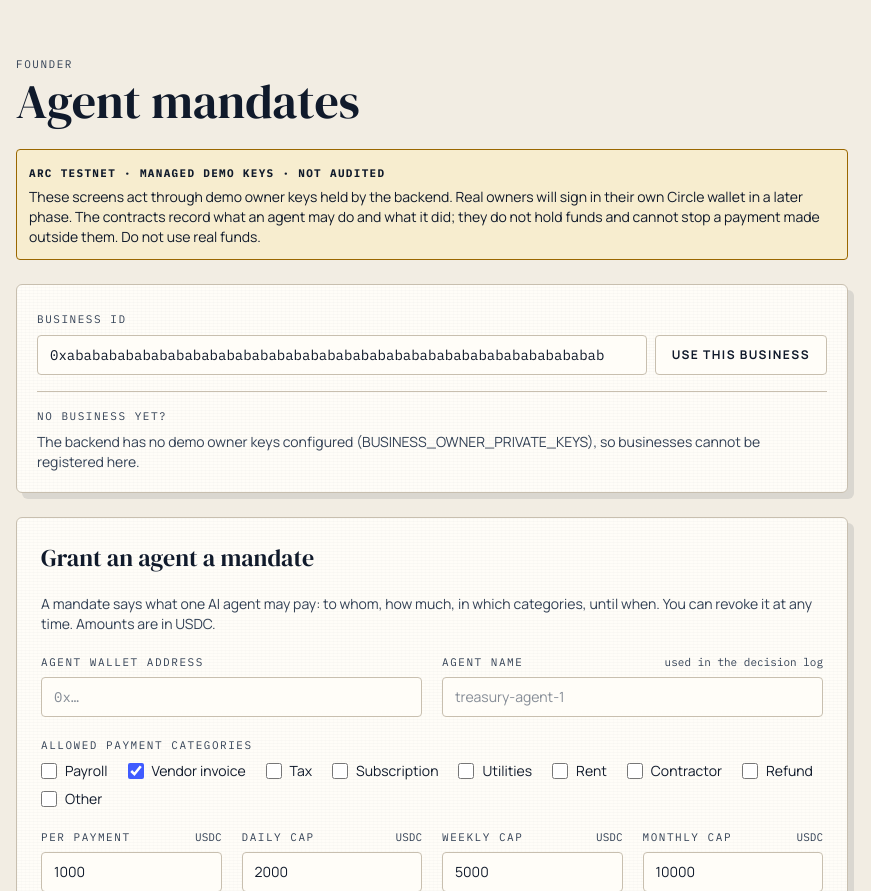
Test: Founder: mandates › surfaces a contract-level refusal in words
The image size is (871, 891).
Type "0x14dC79964da2C08b23698B3D3cc7Ca32193d9955" into the field labelled "Agent wallet address" at (232, 696), box [41,676,422,716]
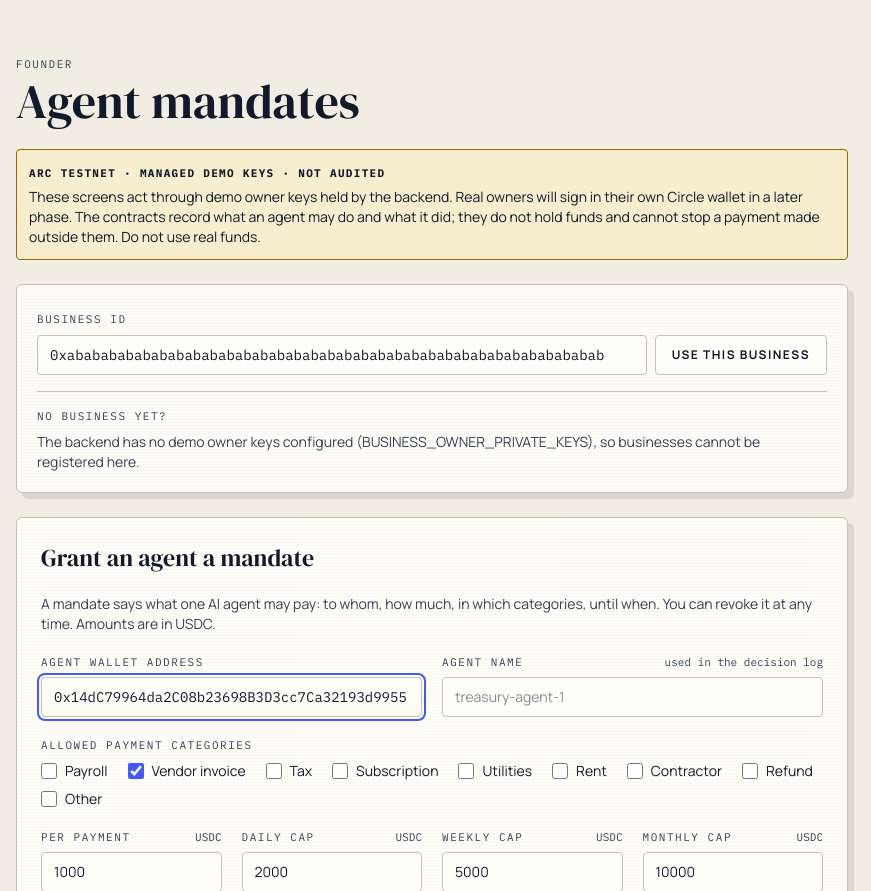
Type "a" into the field labelled "Agent name" at (632, 696), box [442,676,823,716]
(page scrolled)
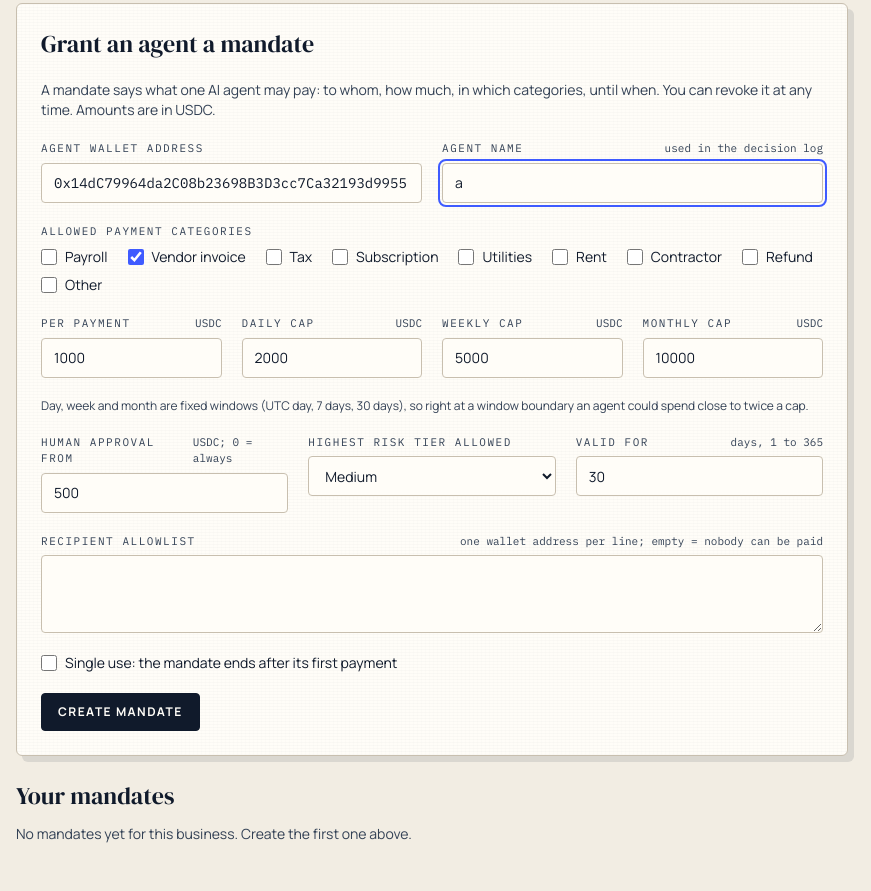
Click the button "Create mandate" at (120, 712), box [41,693,200,731]
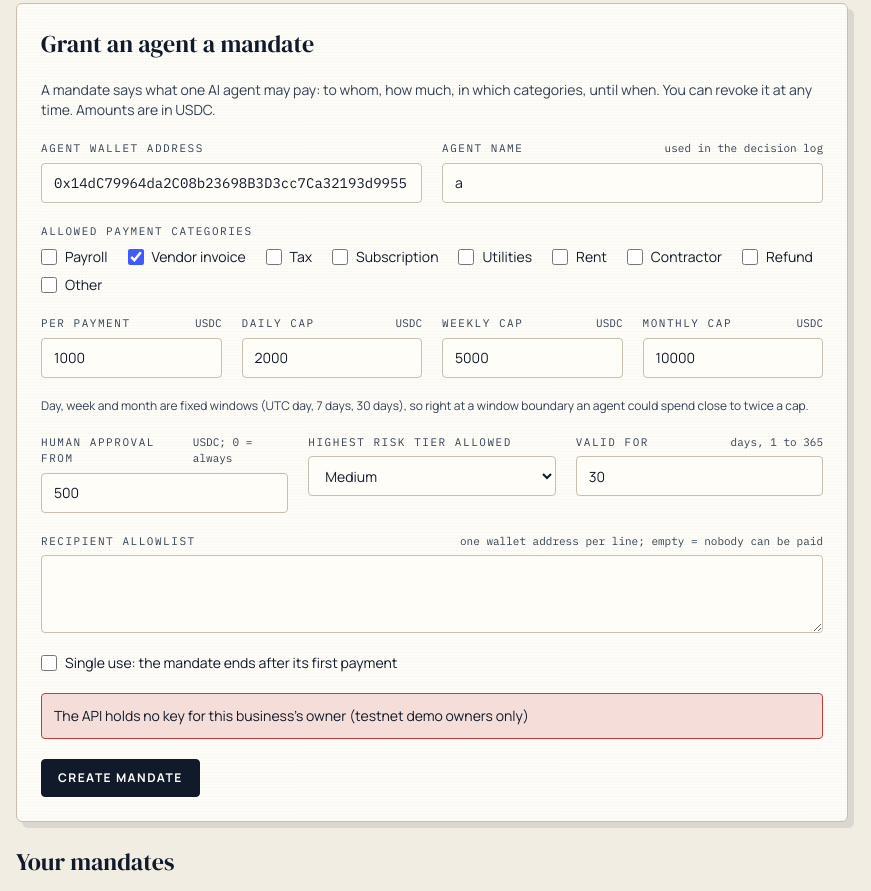
Now the text "The API holds no key for this business's owner (testnet demo owners only)" is shown, box [41,693,823,739]
